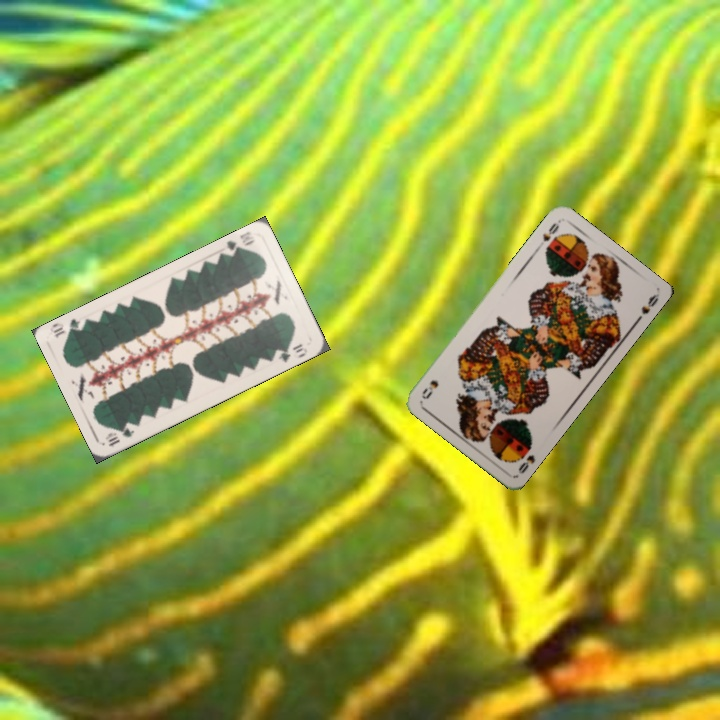G10: (222, 227, 256, 257), (101, 422, 137, 449)
SO: (513, 438, 538, 477), (533, 219, 562, 252)
